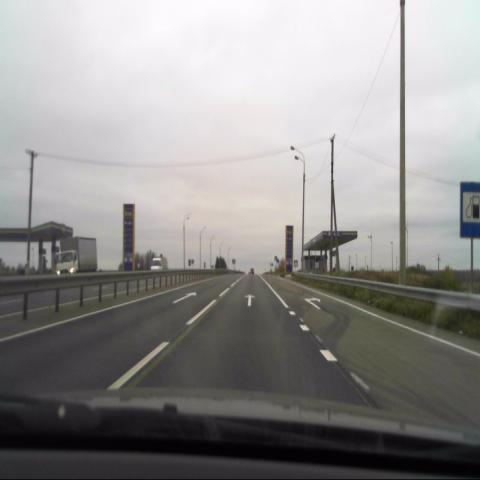7_3: (460, 182, 480, 238)
